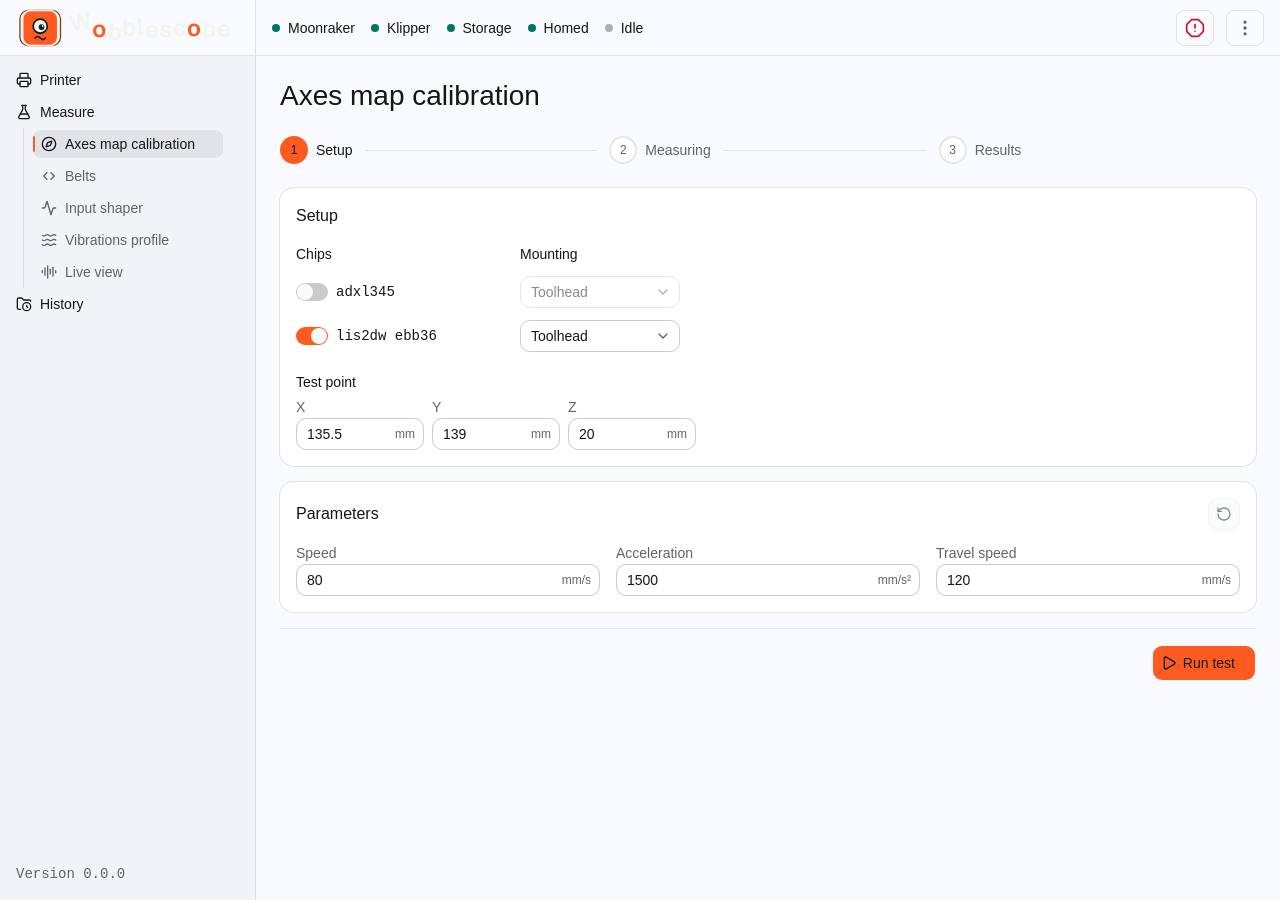
the axes-map run page › minimums_are_enforced_in_the_form
Expected: the button "Run test" is enabled, [1152,645,1256,681]
Type "10" into the number field labelled "Speed".
click(429, 580); type("10")  # box [297,564,562,596]
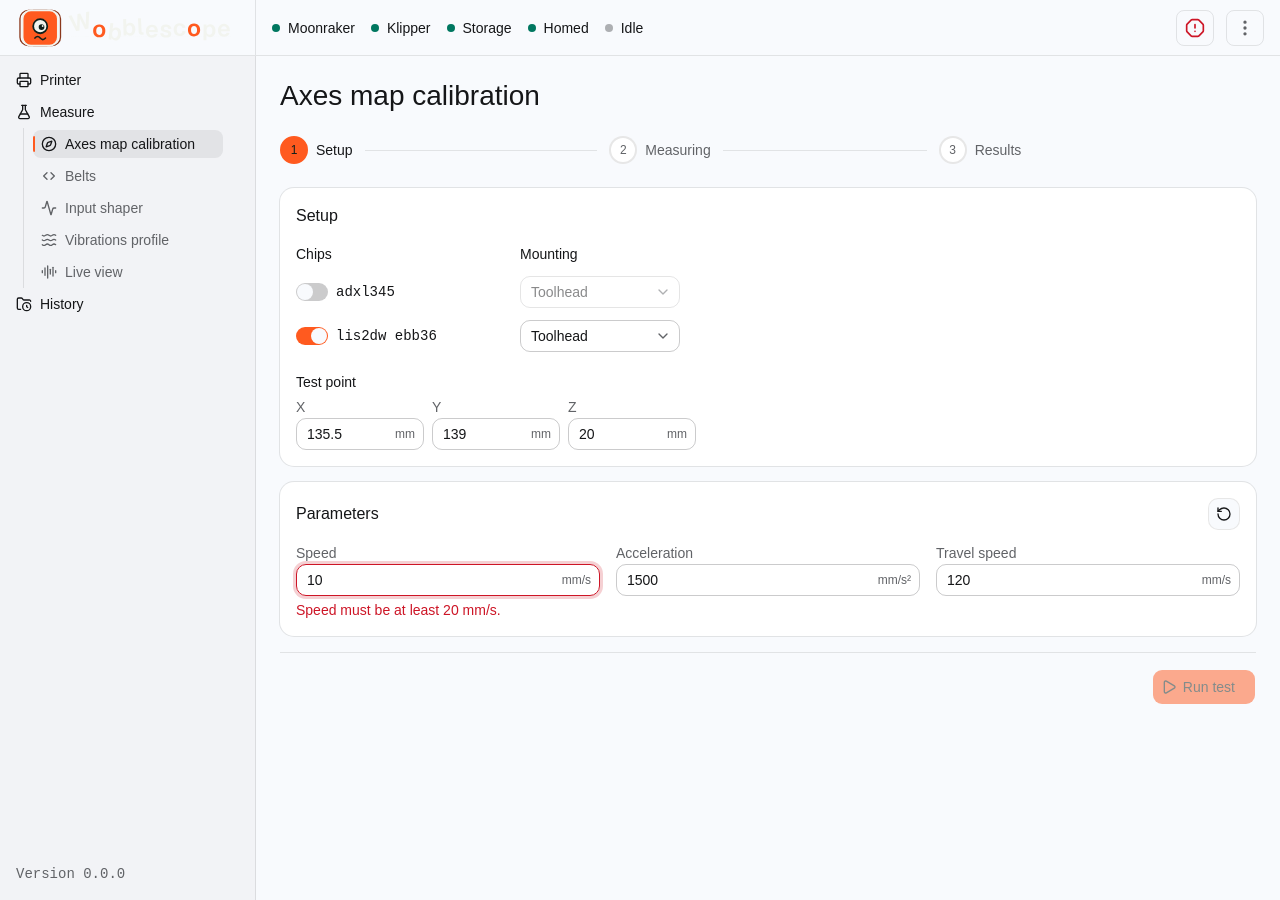
Now the text "Speed must be at least 20 mm/s." is shown, box [296,602,501,618]
Now the button "Run test" is disabled, box [1152,669,1256,705]
Replace the text in the number field labelled "Speed" with "20" at [429, 580], box [297,564,562,596]
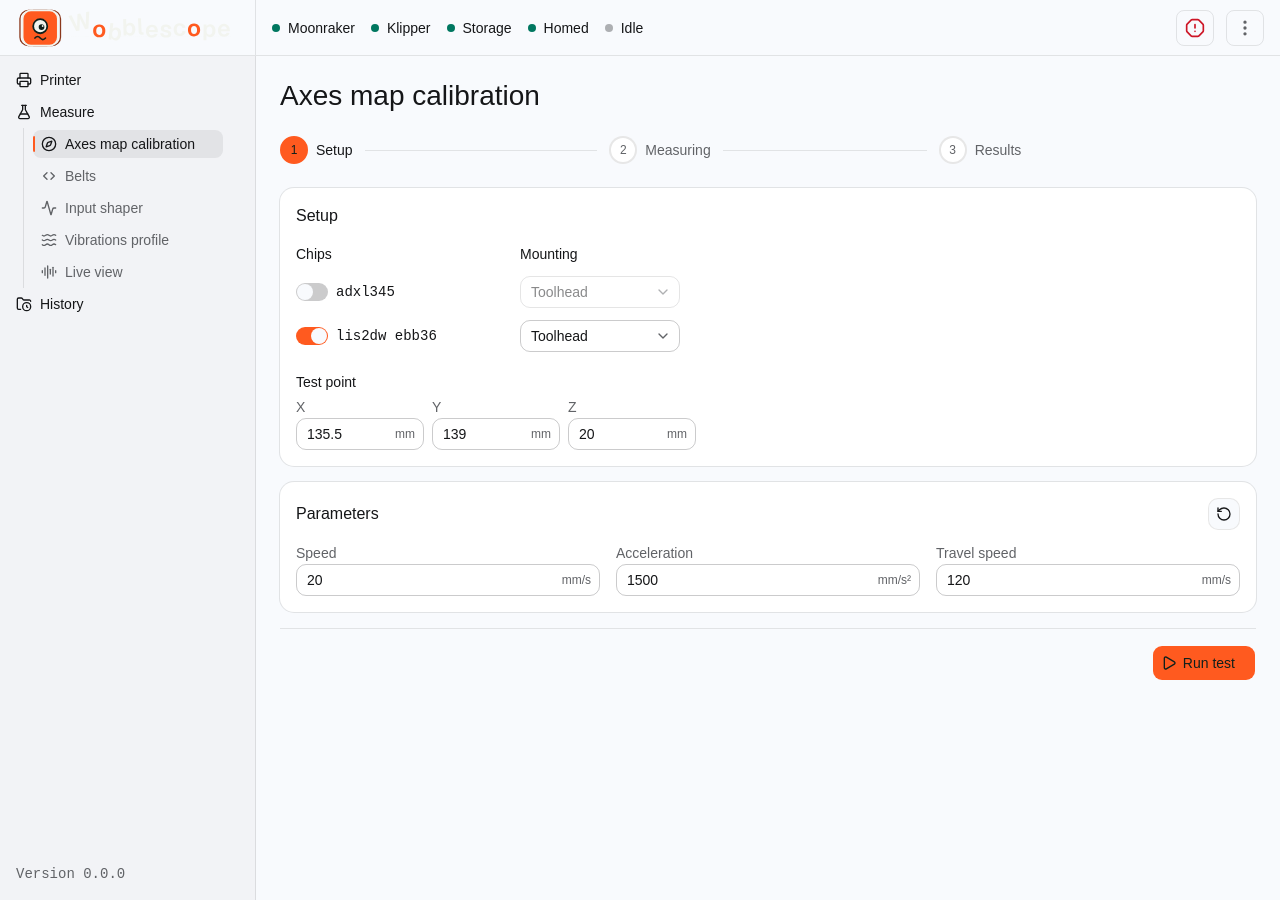
Type "99" into the number field labelled "Acceleration".
click(747, 580); type("99")  # box [617,564,878,596]
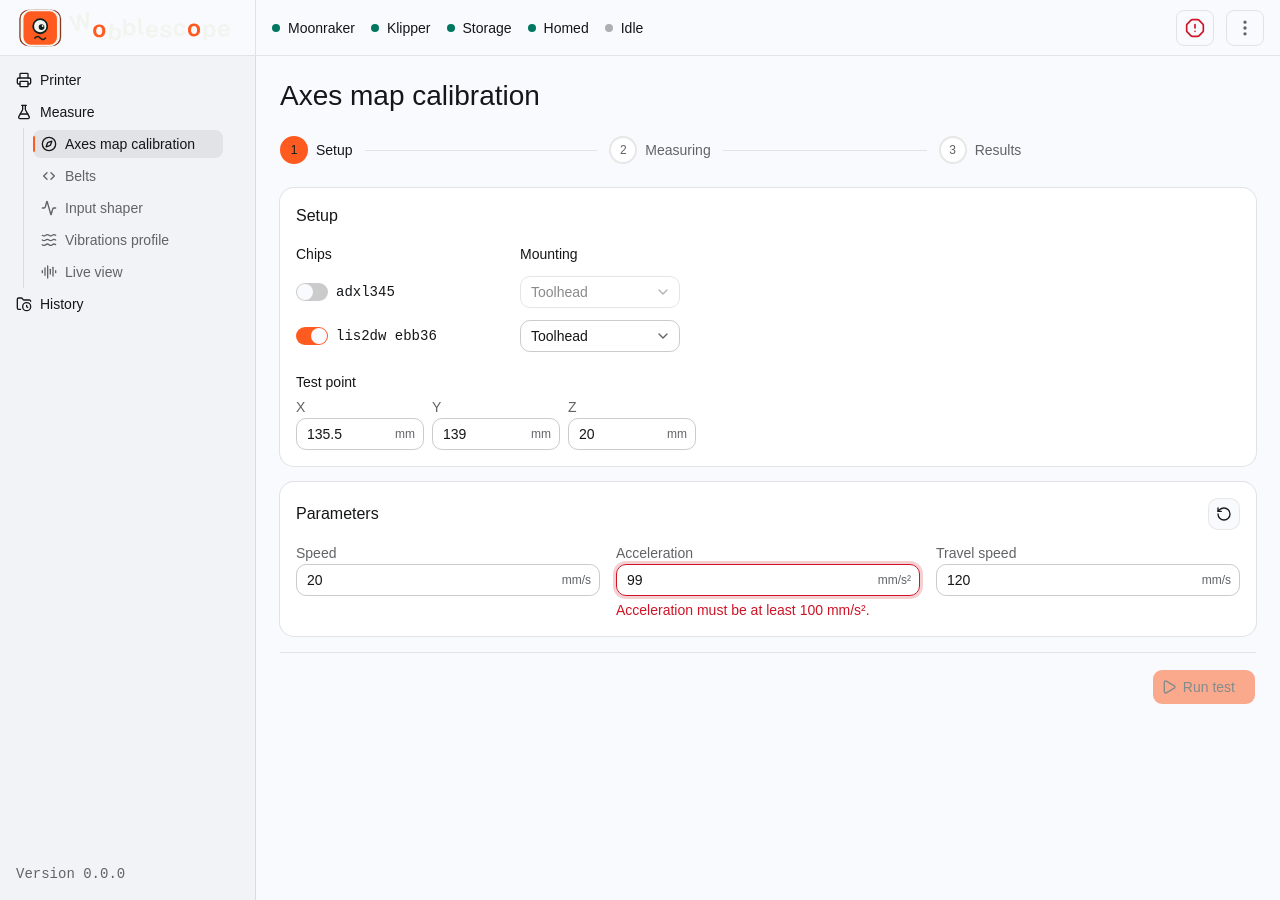
Now the text "Acceleration must be at least 100 mm/s²." is shown, box [616,602,870,618]
Replace the text in the number field labelled "Acceleration" with "100" at [747, 580], box [617,564,878,596]
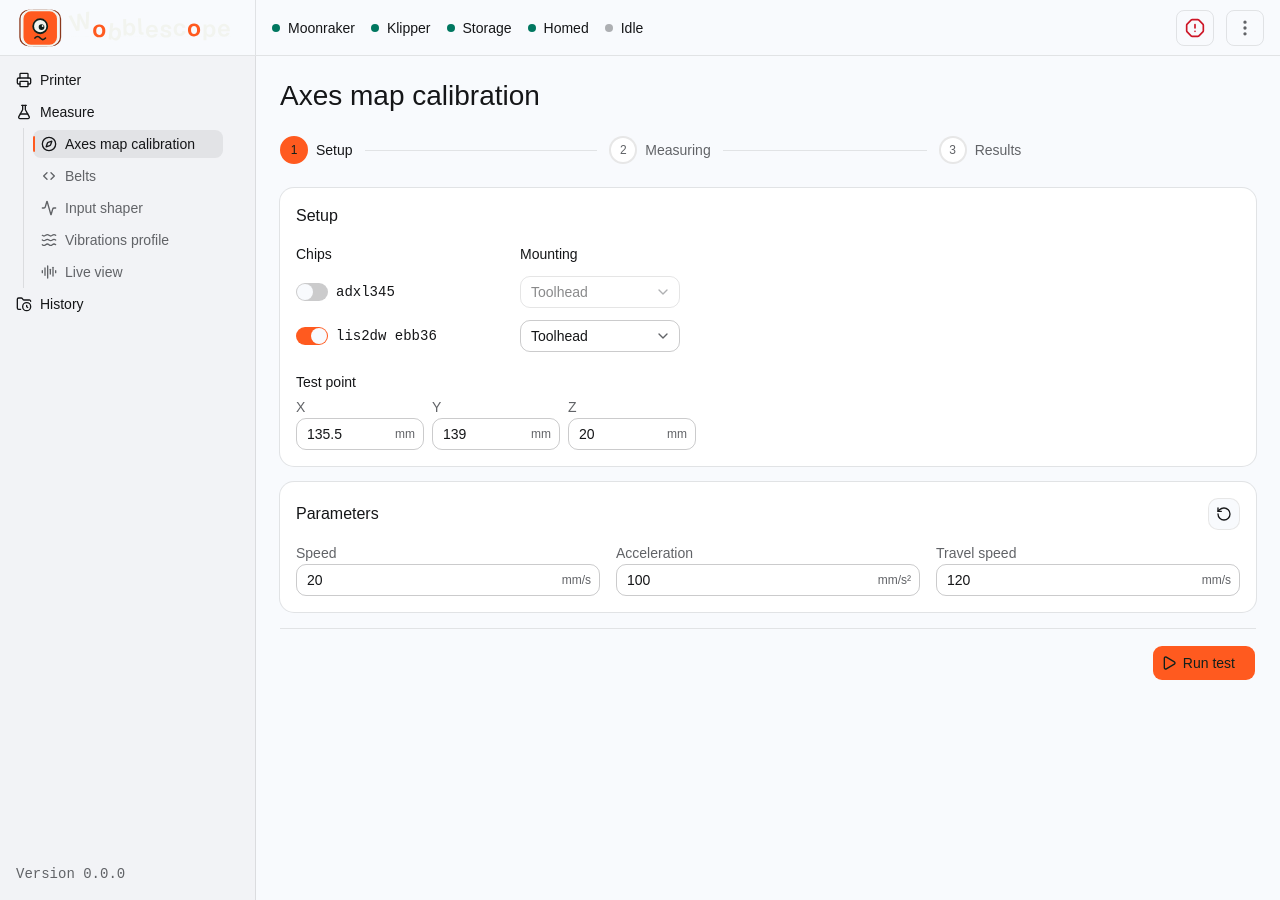
Type "19" into the number field labelled "Travel speed".
click(1069, 580); type("19")  # box [937,564,1202,596]
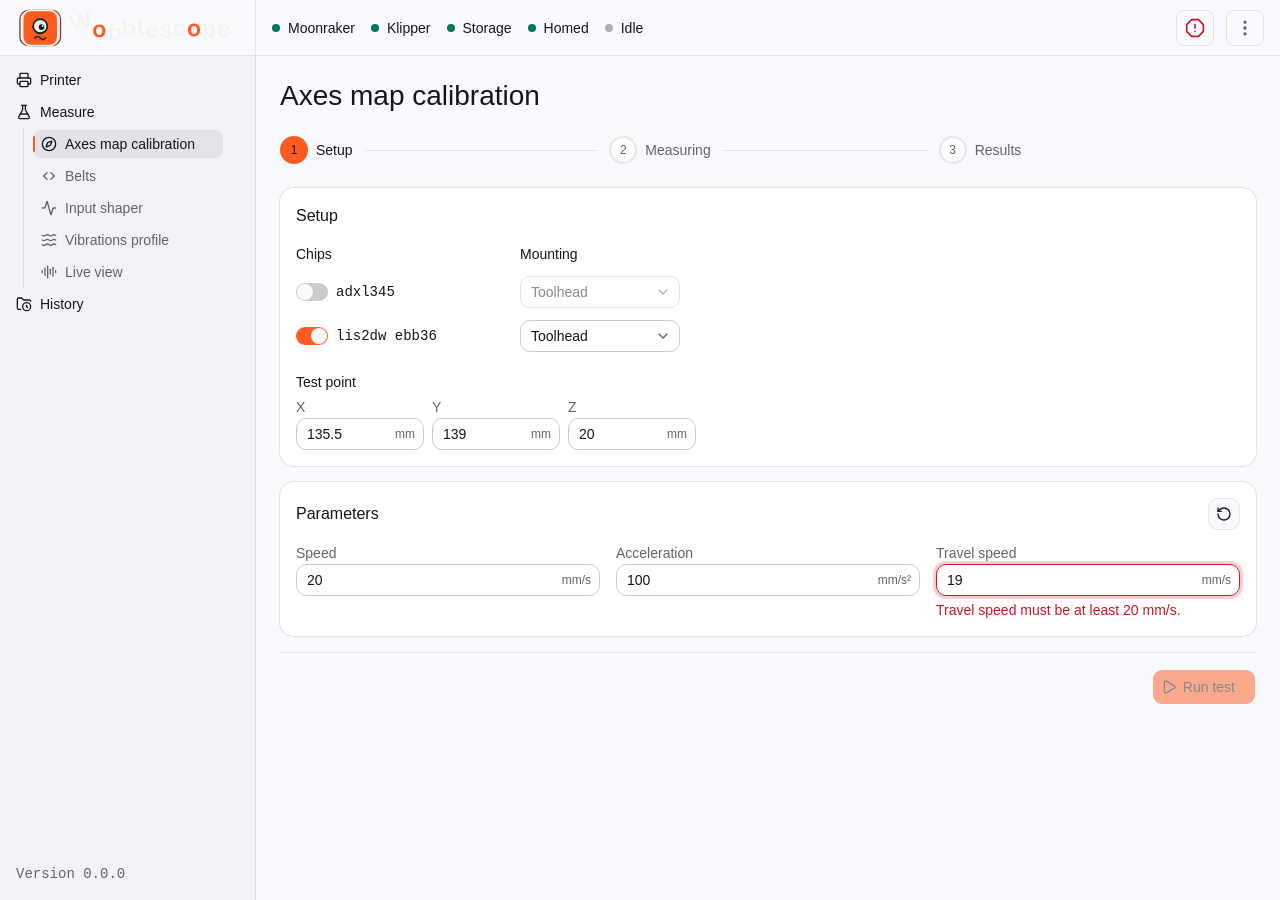
Now the text "Travel speed must be at least 20 mm/s." is shown, box [936,602,1181,618]
Now the button "Run test" is disabled, box [1152,669,1256,705]
Submit the form, box [280,188,1256,705]
Replace the text in the number field labelled "Travel speed" with "20" at [1069, 580], box [937,564,1202,596]
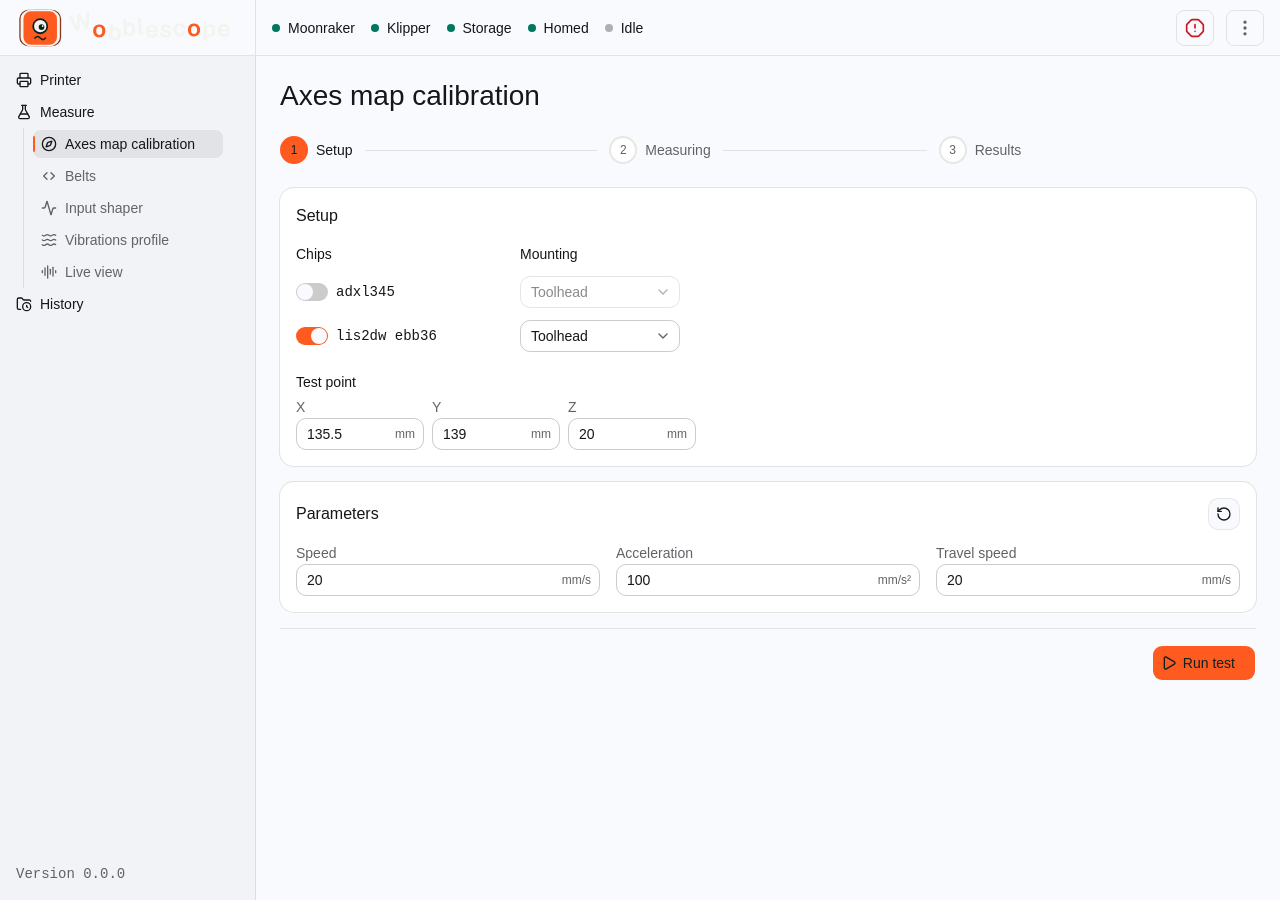
Now the button "Run test" is enabled, box [1152,645,1256,681]
